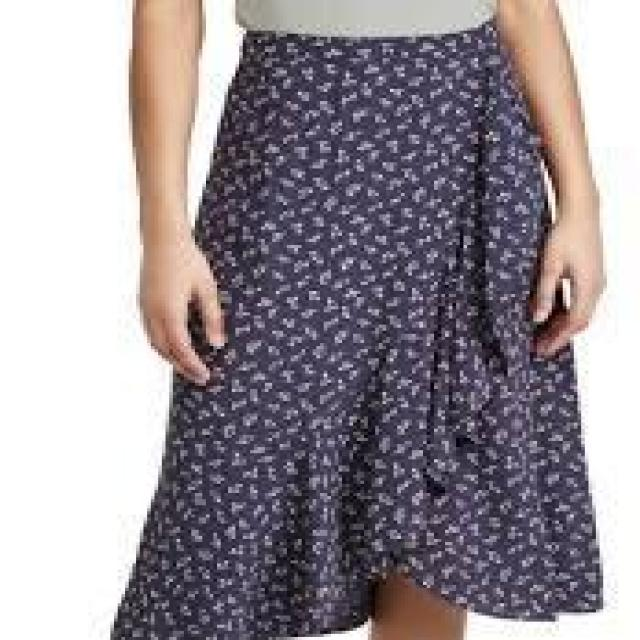skirt: (132, 18, 618, 640)
